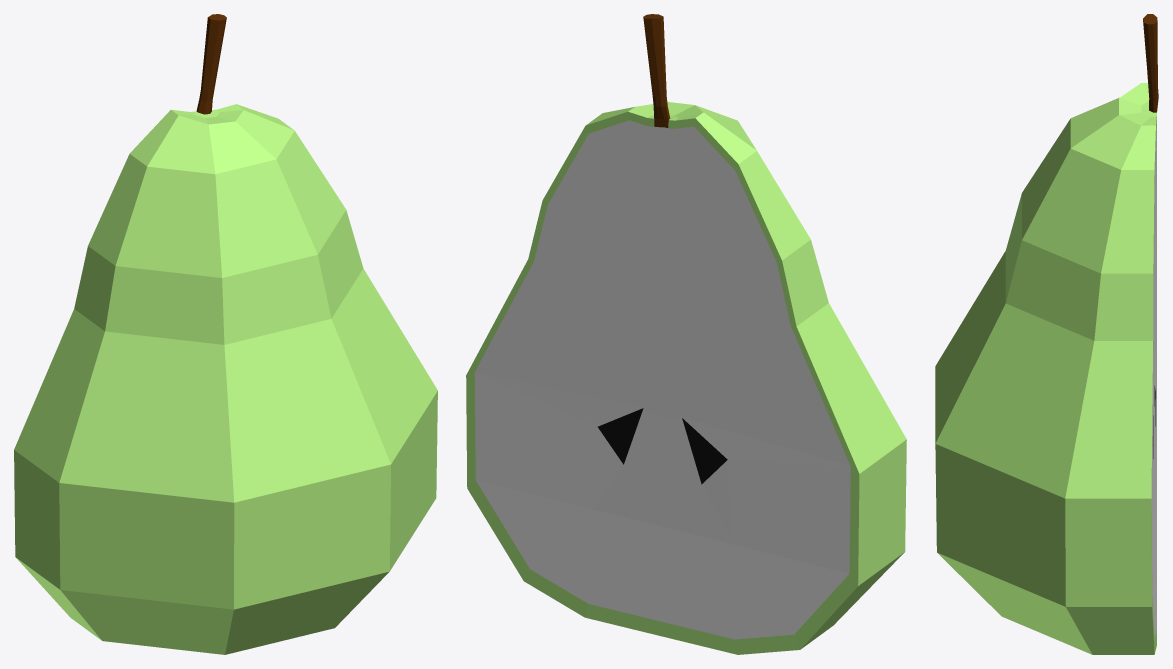
The model's file is pear02.obj.
The picture shows the model from 3 angles, left to right: view 1: azimuth 30°, elevation 25°; view 2: azimuth 150°, elevation 25°; view 3: azimuth 270°, elevation 25°; orthographic projection. The views are drawn at different scales.
Visible parts, largest first — view 1: Cylinder; view 2: Cylinder; view 3: Cylinder.
Boxes of the visible parts, box(x1,y1,x2,y2) form: Cylinder: box(14, 14, 437, 654); Cylinder: box(466, 14, 906, 654); Cylinder: box(935, 14, 1158, 654).
Bounding box in the file's own units: 0.0646 × 0.0959 × 0.0325.
1 material, 1 textured.
